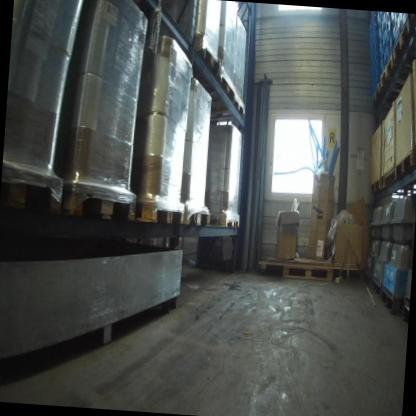pallet: (60, 182, 137, 224), (0, 169, 63, 218), (135, 199, 186, 227), (192, 34, 223, 78), (379, 53, 415, 89), (392, 15, 416, 61), (281, 264, 334, 283), (371, 82, 401, 111), (394, 149, 416, 182), (218, 68, 237, 105), (380, 286, 404, 315), (210, 212, 240, 229), (185, 209, 211, 227), (232, 94, 246, 117), (400, 301, 410, 326), (370, 278, 383, 297), (370, 177, 383, 195), (363, 268, 373, 286)
small_load_carrier: (377, 21, 389, 53), (390, 12, 402, 44), (384, 28, 396, 56), (379, 39, 389, 71), (376, 13, 386, 39), (385, 12, 395, 33), (395, 13, 407, 29), (376, 11, 385, 25)
